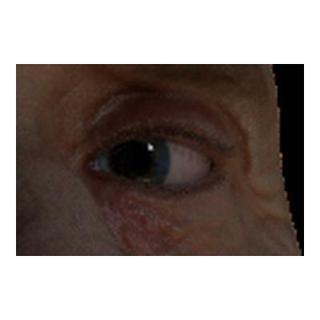pupil: (111, 140, 150, 180)
